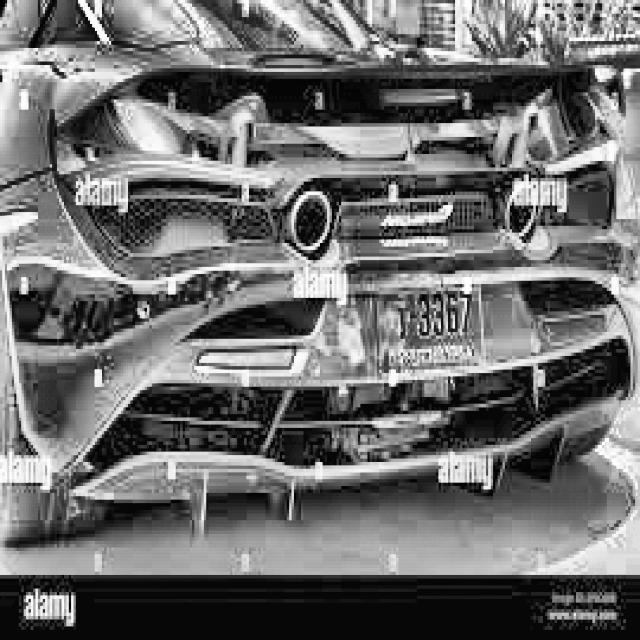license-plate: (364, 264, 493, 388)
